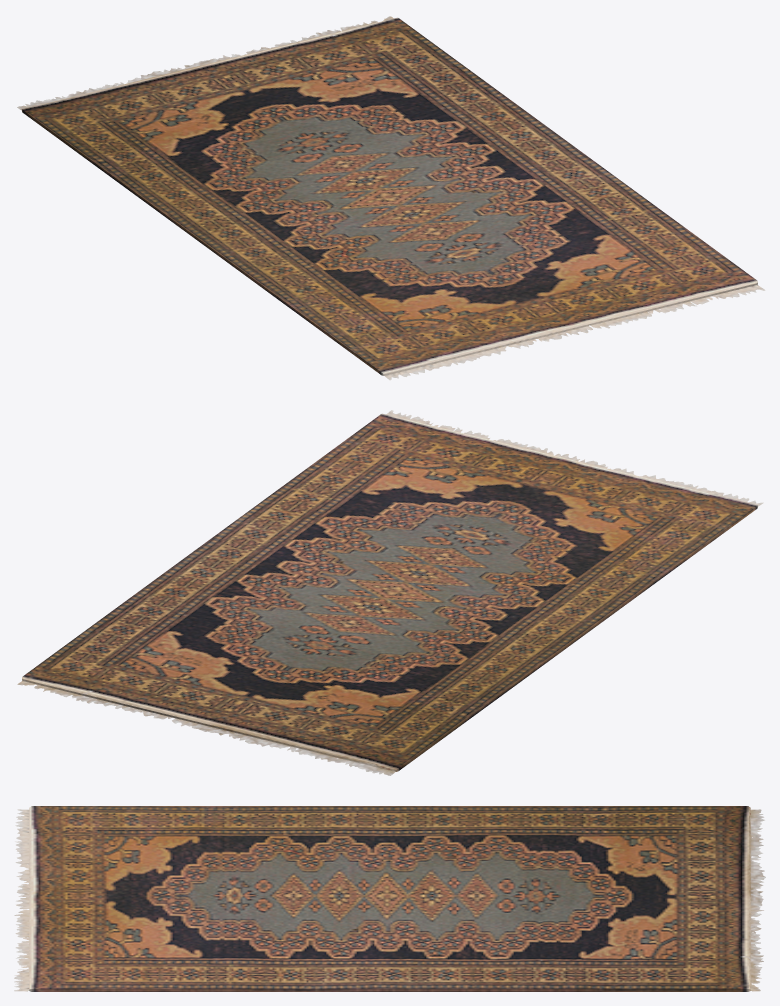
File: rug.gltf
The picture shows the model from 3 angles, top to bottom: view 1: azimuth 30°, elevation 25°; view 2: azimuth 150°, elevation 25°; view 3: azimuth 270°, elevation 25°; orthographic projection.
Parts seen in each view (by area): view 1: rug01_MDL_nar_blinn2_0; view 2: rug01_MDL_nar_blinn2_0; view 3: rug01_MDL_nar_blinn2_0.
Part boxes in pixels (x1,y1,x2,y2): rug01_MDL_nar_blinn2_0: [17, 16, 765, 380]; rug01_MDL_nar_blinn2_0: [17, 410, 763, 775]; rug01_MDL_nar_blinn2_0: [14, 806, 765, 991].
Bounding box in the file's own units: 300 × 2.15 × 521.
Materials: 1 (1 with a texture image).
